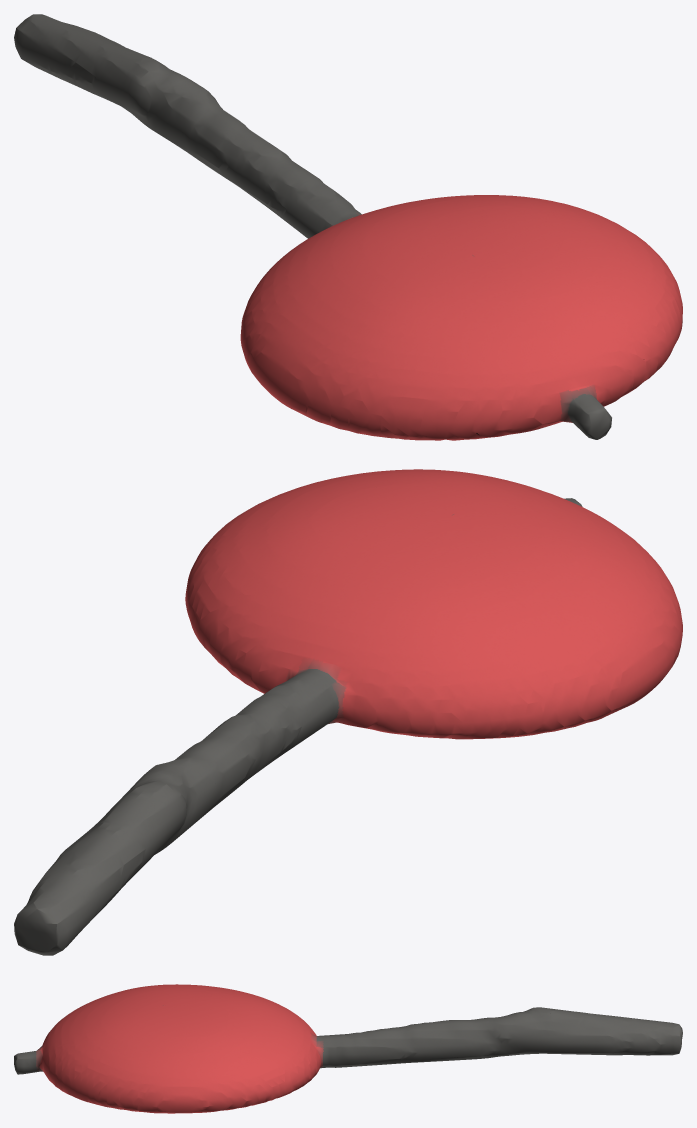
Rendered from sign2.gltf.
The picture shows the model from 3 angles, top to bottom: view 1: azimuth 30°, elevation 25°; view 2: azimuth 150°, elevation 25°; view 3: azimuth 270°, elevation 25°; orthographic projection. The views are drawn at different scales.
Parts seen in each view (by area): view 1: Layer_1; view 2: Layer_1; view 3: Layer_1.
Boxes of the visible parts, x1=… form: Layer_1: x1=14, y1=14, x2=682, y2=440; Layer_1: x1=14, y1=469, x2=682, y2=955; Layer_1: x1=14, y1=984, x2=682, y2=1113.
Size of the model in its own units: 33.15 by 9.58 by 78.84.
1 material, 1 textured.
